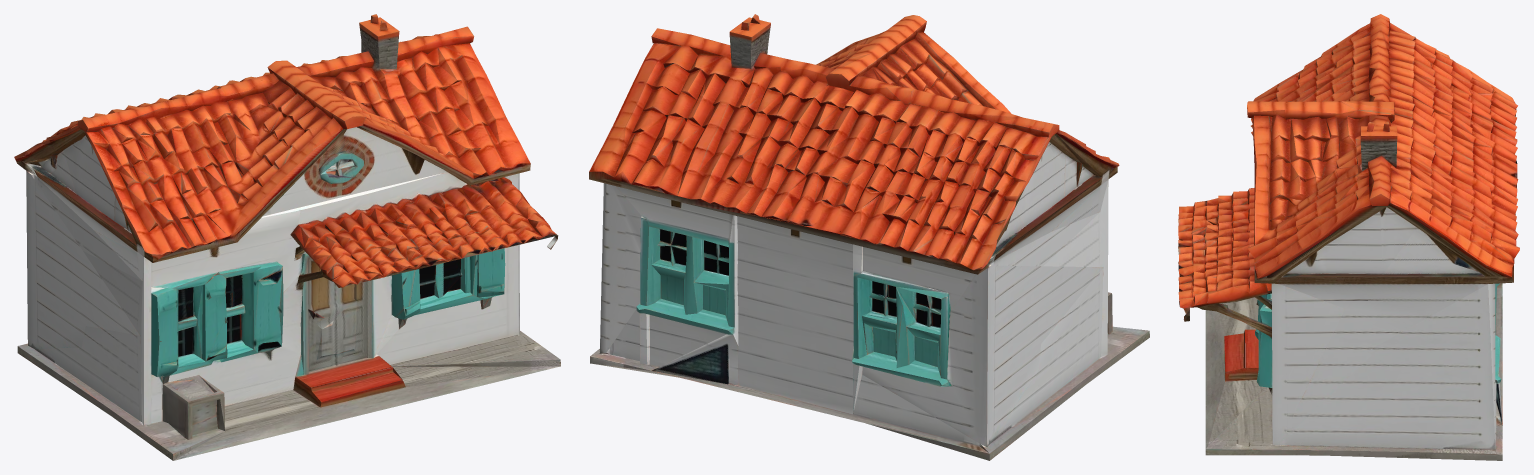
The model's file is home2.glb.
3 views of the same model, side by side, from view 1: azimuth 30°, elevation 25°; view 2: azimuth 150°, elevation 25°; view 3: azimuth 270°, elevation 25° (orthographic). The views are drawn at different scales.
Size of the model in its own units: 1.9 by 1.45 by 1.52.
Materials: 1 (1 with a texture image).
